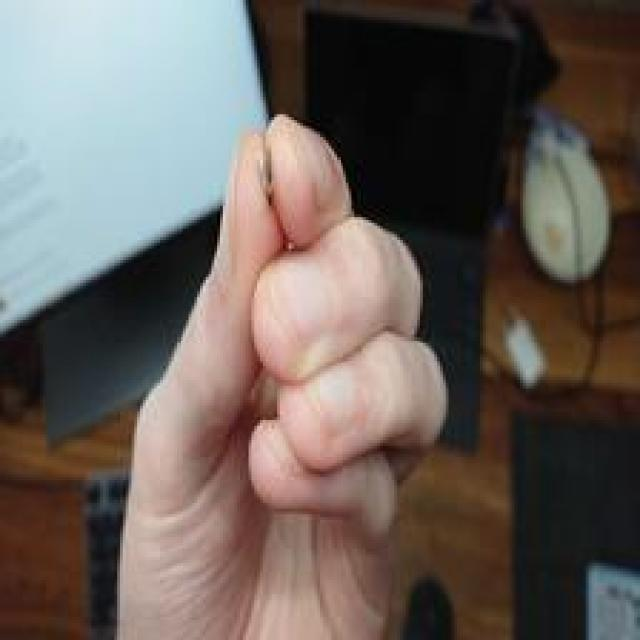Culex: (516, 104, 613, 287)
